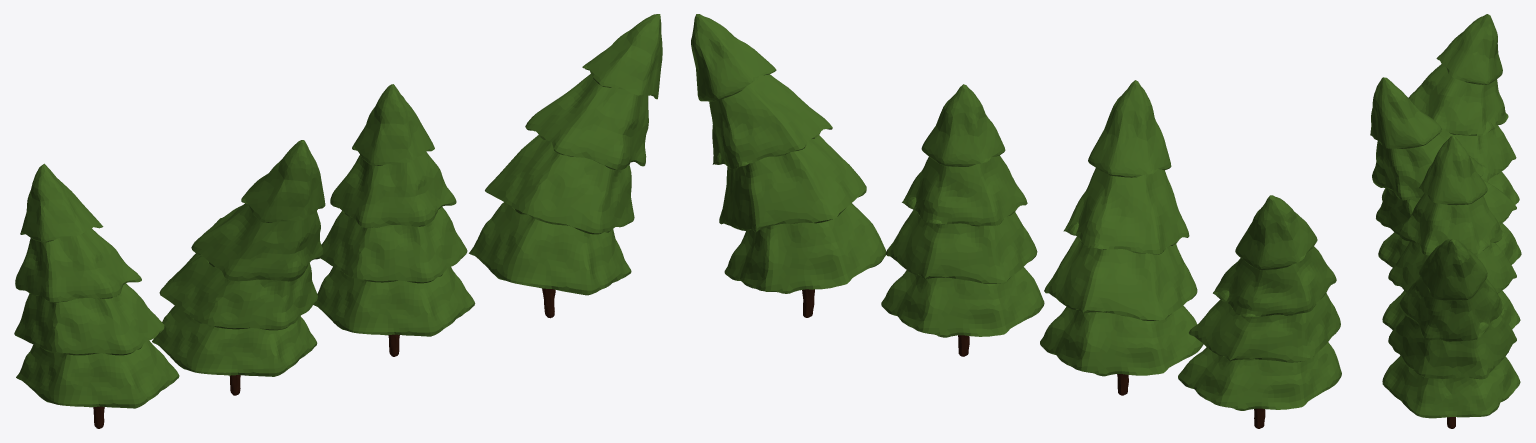
File: Tree01.fbx
3 renders of one model, left to right at view 1: azimuth 30°, elevation 25°; view 2: azimuth 150°, elevation 25°; view 3: azimuth 270°, elevation 25°, orthographic. The views are drawn at different scales.
Visible parts, largest first — view 1: Circle.001, Circle, Circle.002, Circle.003; view 2: Circle.001, Circle.002, Circle, Circle.003; view 3: Circle.001, Circle, Circle.003, Circle.002.
Boxes of the visible parts, x1=… form: Circle.001: x1=469, y1=14, x2=662, y2=318; Circle: x1=313, y1=84, x2=475, y2=356; Circle.002: x1=152, y1=140, x2=325, y2=395; Circle.003: x1=14, y1=163, x2=179, y2=428; Circle.001: x1=691, y1=14, x2=886, y2=317; Circle.002: x1=1040, y1=80, x2=1203, y2=395; Circle: x1=881, y1=84, x2=1044, y2=356; Circle.003: x1=1178, y1=195, x2=1341, y2=428; Circle.001: x1=1382, y1=239, x2=1520, y2=428; Circle: x1=1382, y1=136, x2=1520, y2=329; Circle.003: x1=1382, y1=14, x2=1519, y2=204; Circle.002: x1=1370, y1=77, x2=1521, y2=267.
Size of the model in its own units: 808 by 340 by 199.
